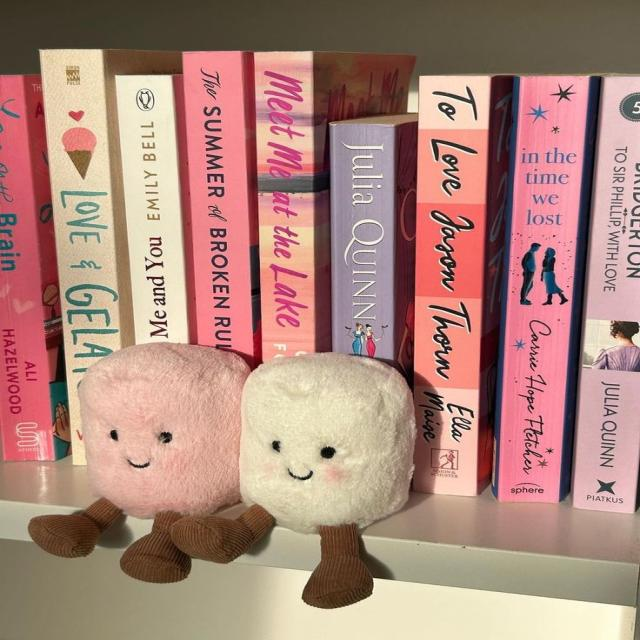book: (250, 51, 413, 360), (492, 76, 599, 502), (413, 76, 498, 495), (41, 50, 126, 465), (571, 76, 639, 511), (0, 75, 64, 460), (330, 115, 416, 387), (184, 51, 255, 360), (115, 74, 189, 344)
